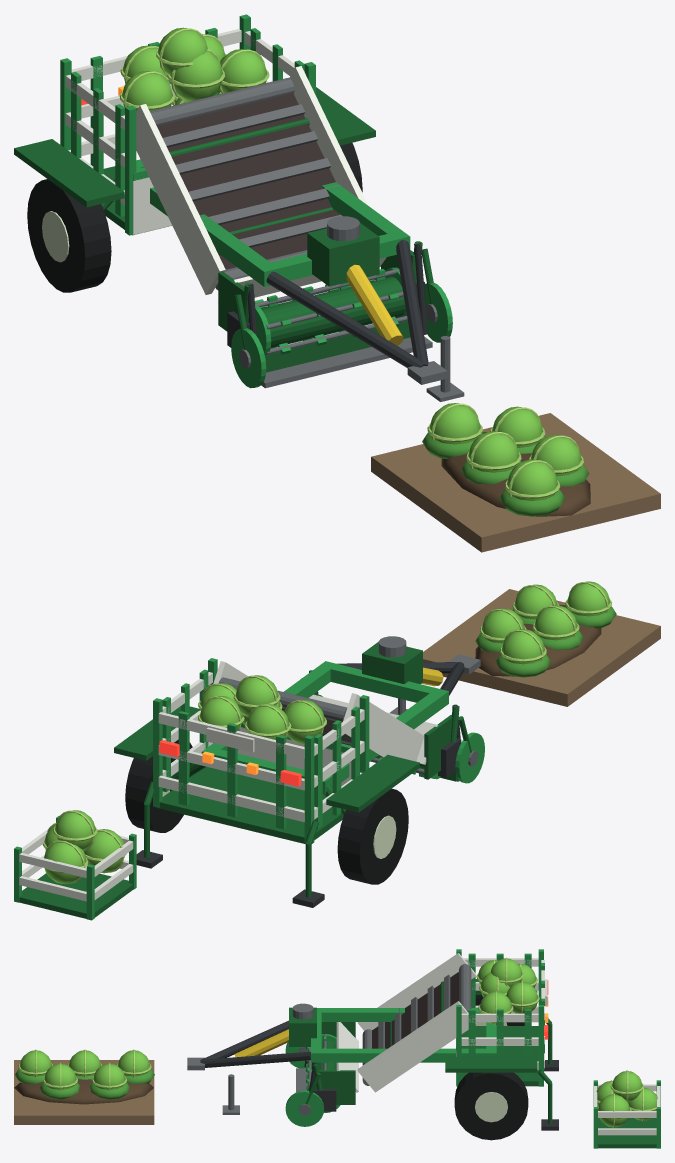
File: cabbage_harvester.glb
3 renders of one model, top to bottom at view 1: azimuth 30°, elevation 25°; view 2: azimuth 150°, elevation 25°; view 3: azimuth 270°, elevation 25°, orthographic. The views are drawn at different scales.
Parts seen in each view (by area): view 1: CabbageBody, CabbageProps, CabbagePickup; view 2: CabbageBody, CabbageProps; view 3: CabbageBody, CabbageProps, CabbagePickup.
Boxes of the visible parts, <box> form: CabbageBody: <box>14,14,464,401</box>; CabbageProps: <box>171,53,660,552</box>; CabbagePickup: <box>254,267,407,354</box>; CabbageBody: <box>114,636,484,907</box>; CabbageProps: <box>14,581,660,920</box>; CabbageBody: <box>187,949,558,1140</box>; CabbageProps: <box>14,1049,660,1148</box>; CabbagePickup: <box>306,1034,340,1112</box>.
Bounding box in the file's own units: 2.59 × 1.74 × 7.38.
